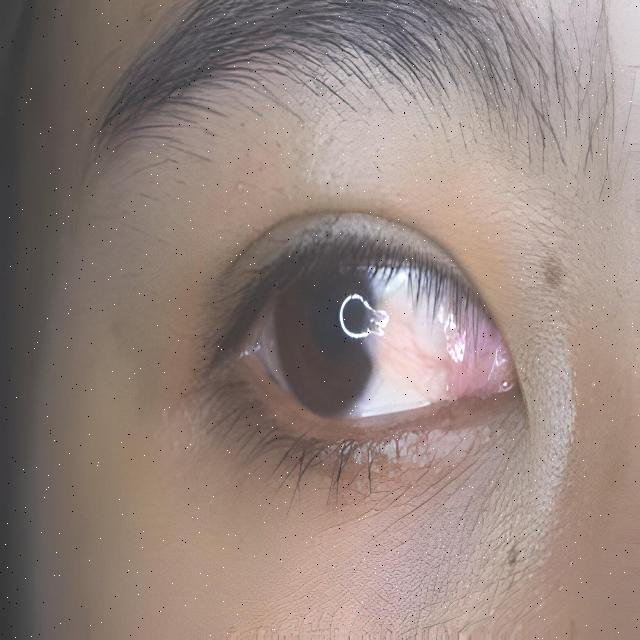Pterygium: (357, 266, 496, 427)
